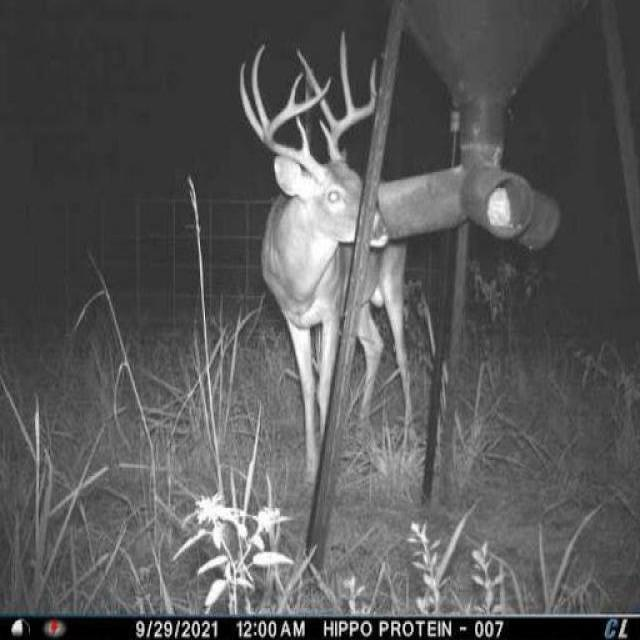deer: (228, 22, 437, 501)
